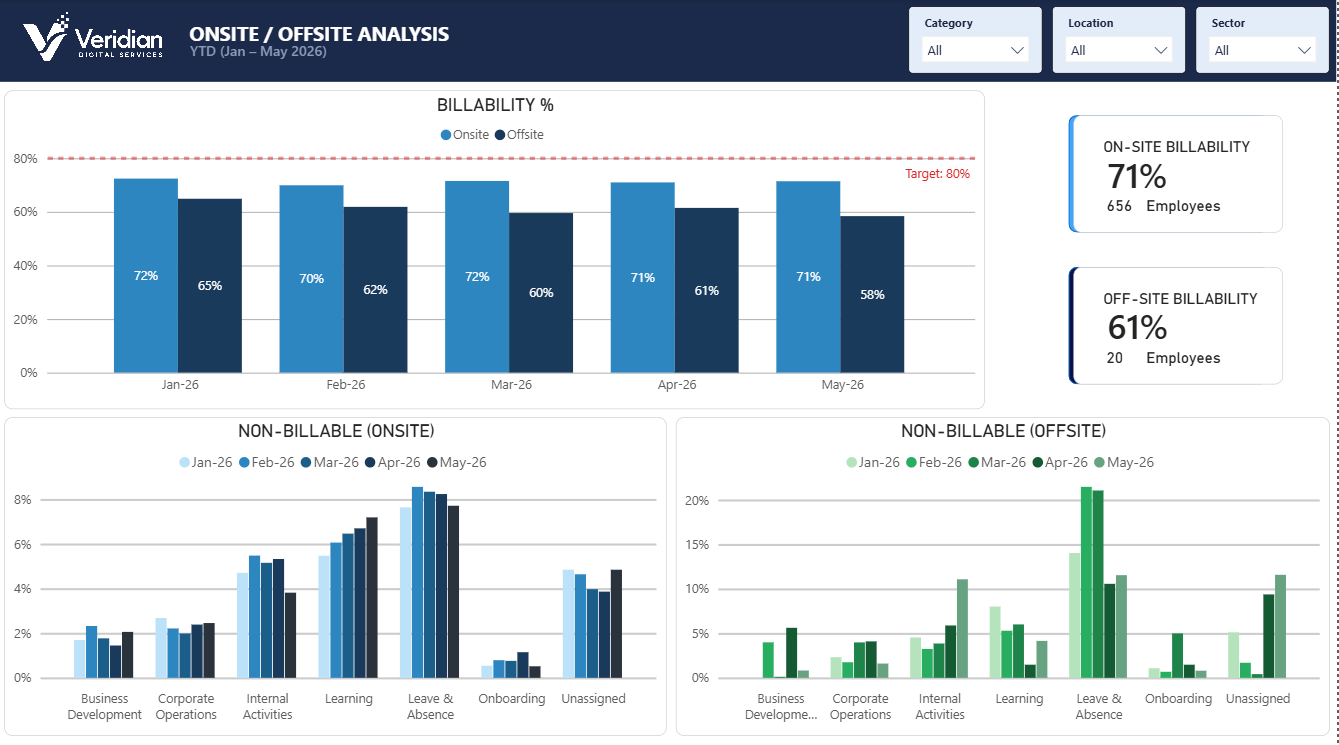

Layout of this report page (visuals, bound fields, positions):
{"tool":"powerbi","page":{"name":"Onsite / Offsite","canvas":[1280,720],"ordinal":2},"visuals":[{"type":"group","id":"g1","title":"Group 2","box":[0,0,1280,80],"z":0},{"type":"shape","box":[0,0,1280,80],"z":0,"group":"g1"},{"type":"shape","box":[1024,112,192,112],"z":0,"group":"g2"},{"type":"shape","box":[1024,256,192,112],"z":0,"group":"g3"},{"type":"textbox","box":[179.3,15.4,352,48],"z":1000},{"type":"cardVisual","fields":{"Data":["_Measures.YTD Label"]},"box":[173.3,17.4,192,64],"z":2000},{"type":"clusteredColumnChart","title":"BILLABILITY %","fields":{"Category":["Dim_Date.Month Year"],"Y":["_Measures.Billability % - Onsite","_Measures.Billability % - Offsite"]},"box":[8,88,936,304],"z":3000},{"type":"clusteredColumnChart","title":"NON-BILLABLE (ONSITE)","fields":{"Series":["Dim_Date.Month Year"],"Category":["Dim_Activity.Activity Category"],"Y":["_Measures.Category % of Onsite Days"]},"box":[8,400,632,304],"z":4000},{"type":"clusteredColumnChart","title":"NON-BILLABLE (OFFSITE)","fields":{"Series":["Dim_Date.Month Year"],"Category":["Dim_Activity.Activity Category"],"Y":["_Measures.Category % of Offsite Days"]},"box":[649,400,624,304],"z":5000},{"type":"group","id":"g2","title":"Group 1","box":[1024,112,224,112],"z":6000},{"type":"cardVisual","fields":{"Data":["_Measures.Billability % - Onsite"]},"box":[1028,112,200,112],"z":7000,"group":"g2"},{"type":"group","id":"g3","title":"Group 1","box":[1024,256,224,112],"z":7000},{"type":"cardVisual","fields":{"Data":["_Measures.Billability % - Offsite"]},"box":[1028,256,200,112],"z":7000,"group":"g3"},{"type":"slicer","fields":{"Values":["Dim_Location.Reporting Location Group"]},"box":[1008.3,8.4,128,64],"z":8000},{"type":"PBI_CV_7B952816_A48F_49B4_9E13_15E3BB2C0337","fields":{"Values":["_Measures.Onsite Employees"]},"box":[1054.7,168.7,80,56],"z":8000,"group":"g2"},{"type":"PBI_CV_7B952816_A48F_49B4_9E13_15E3BB2C0337","fields":{"Values":["_Measures.Offsite Employees"]},"box":[1054.7,312.7,80,56],"z":8000,"group":"g3"},{"type":"slicer","fields":{"Values":["Dim_Employee.Sector"]},"box":[1144.3,8.4,128,64],"z":9000},{"type":"textbox","box":[1092.7,183.7,112,32],"z":9000,"group":"g2"},{"type":"textbox","box":[1092.7,327.7,112,32],"z":9000,"group":"g3"},{"type":"image","box":[21,4,144,64],"z":10000},{"type":"textbox","box":[1052,128,192,32],"z":10000,"group":"g2"},{"type":"textbox","box":[1052,272,192,32],"z":10000,"group":"g3"},{"type":"slicer","fields":{"Values":["Fact_Timesheet.Employee Category 2"]},"box":[871,8,128,64],"z":11000}]}

Visuals, with their boxes in screenshot pixels (x1, y1, x2, y2), scaled from the page's 1280x720 canvas onto the 1339x745 screenshot:
"Group 2" group: box(0, 0, 1338, 83)
shape: box(0, 0, 1338, 83)
shape: box(1071, 116, 1272, 232)
shape: box(1071, 265, 1272, 381)
textbox: box(188, 16, 556, 66)
cardVisual - _Measures.YTD Label: box(181, 18, 382, 84)
"BILLABILITY %" clusteredColumnChart: box(8, 91, 988, 406)
"NON-BILLABLE (ONSITE)" clusteredColumnChart: box(8, 414, 670, 728)
"NON-BILLABLE (OFFSITE)" clusteredColumnChart: box(679, 414, 1332, 728)
"Group 1" group: box(1071, 116, 1306, 232)
cardVisual - _Measures.Billability % - Onsite: box(1075, 116, 1285, 232)
"Group 1" group: box(1071, 265, 1306, 381)
cardVisual - _Measures.Billability % - Offsite: box(1075, 265, 1285, 381)
slicer - Dim_Location.Reporting Location Group: box(1055, 9, 1189, 75)
PBI_CV_7B952816_A48F_49B4_9E13_15E3BB2C0337 - _Measures.Onsite Employees: box(1103, 175, 1187, 233)
PBI_CV_7B952816_A48F_49B4_9E13_15E3BB2C0337 - _Measures.Offsite Employees: box(1103, 324, 1187, 382)
slicer - Dim_Employee.Sector: box(1197, 9, 1331, 75)
textbox: box(1143, 190, 1260, 223)
textbox: box(1143, 339, 1260, 372)
image: box(22, 4, 173, 70)
textbox: box(1100, 132, 1301, 166)
textbox: box(1100, 281, 1301, 315)
slicer - Fact_Timesheet.Employee Category 2: box(911, 8, 1045, 74)
